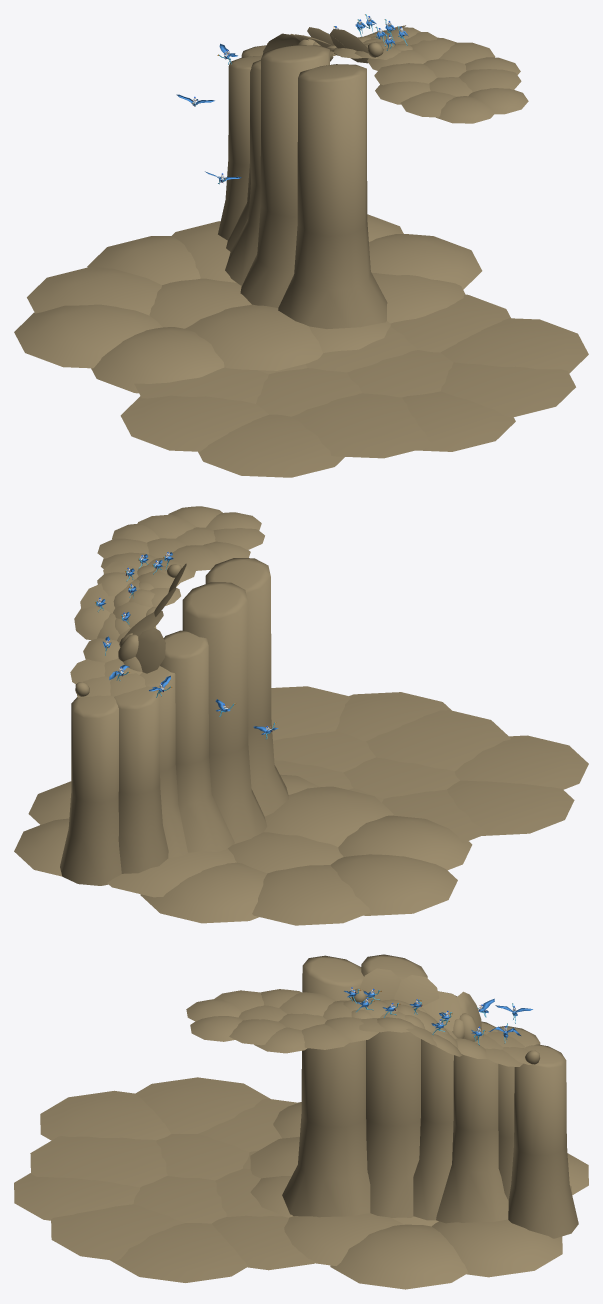
File: BirdRaceBlockout_004.dae
3 views of the same model, one above another, from view 1: azimuth 30°, elevation 25°; view 2: azimuth 150°, elevation 25°; view 3: azimuth 270°, elevation 25° (orthographic). The views are drawn at different scales.
Parts seen in each view (by area): view 1: Terrain.001; view 2: Terrain.001; view 3: Terrain.001.
Part boxes in pixels (bbox=[...]): Terrain.001: bbox=[14, 25, 588, 477]; Terrain.001: bbox=[14, 506, 588, 925]; Terrain.001: bbox=[14, 954, 588, 1289].
Bounding box in the file's own units: 124 × 144 × 75.32.
